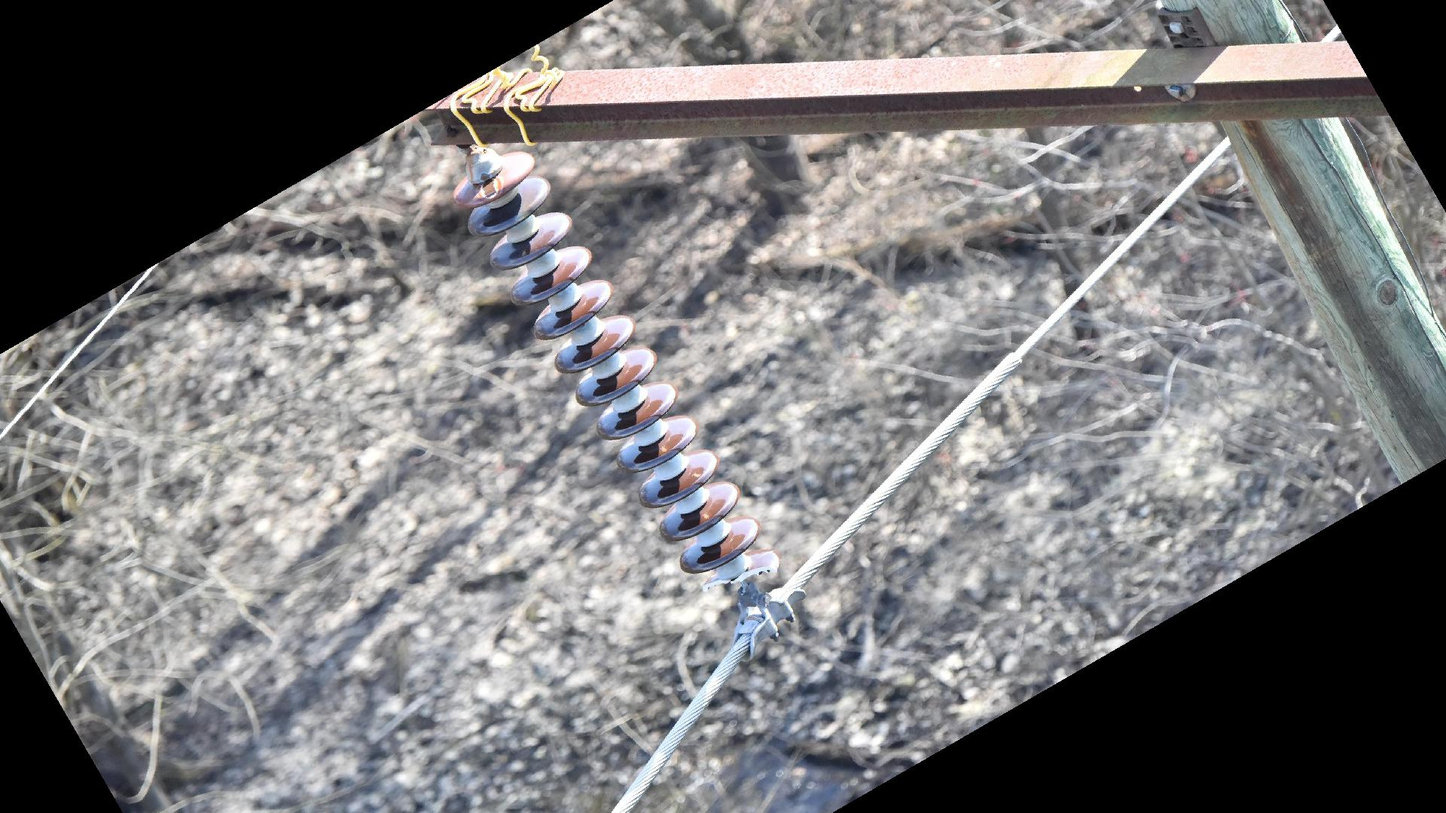insulator: (447, 148, 783, 592)
insulator_breakage: (698, 562, 779, 595)
insulator_flashover: (479, 177, 501, 201)
